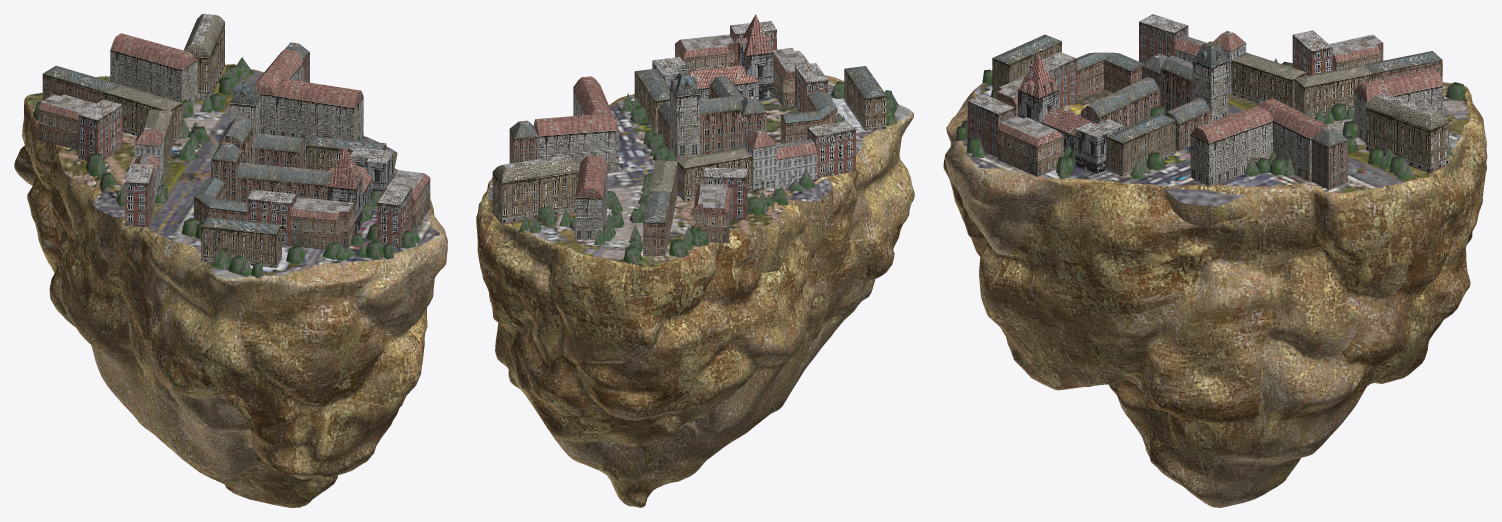
Rendered from sm0680_floatingisland01_01.fbx.
3 views of the same model, side by side, from view 1: azimuth 30°, elevation 25°; view 2: azimuth 150°, elevation 25°; view 3: azimuth 270°, elevation 25° (orthographic). The views are drawn at different scales.
Visible parts, largest first — view 1: LOD_1_Group_0_Sub_3__sm0703_land_A_Mat, LOD_1_Group_0_Sub_4__sm0680_floatingisland_B_Mat, LOD_1_Group_0_Sub_1__sm0680_floatingisland_A_Mat, LOD_1_Group_0_Sub_2__sm0680_floatingisland_C_Mat; view 2: LOD_1_Group_0_Sub_3__sm0703_land_A_Mat, LOD_1_Group_0_Sub_4__sm0680_floatingisland_B_Mat, LOD_1_Group_0_Sub_1__sm0680_floatingisland_A_Mat, LOD_1_Group_0_Sub_2__sm0680_floatingisland_C_Mat; view 3: LOD_1_Group_0_Sub_3__sm0703_land_A_Mat, LOD_1_Group_0_Sub_4__sm0680_floatingisland_B_Mat, LOD_1_Group_0_Sub_1__sm0680_floatingisland_A_Mat, LOD_1_Group_0_Sub_2__sm0680_floatingisland_C_Mat.
Part boxes in pixels (bbox=[...]): LOD_1_Group_0_Sub_3__sm0703_land_A_Mat: bbox=[14, 64, 447, 507]; LOD_1_Group_0_Sub_4__sm0680_floatingisland_B_Mat: bbox=[39, 14, 430, 267]; LOD_1_Group_0_Sub_1__sm0680_floatingisland_A_Mat: bbox=[33, 14, 430, 278]; LOD_1_Group_0_Sub_2__sm0680_floatingisland_C_Mat: bbox=[27, 64, 440, 278]; LOD_1_Group_0_Sub_3__sm0703_land_A_Mat: bbox=[476, 75, 914, 507]; LOD_1_Group_0_Sub_4__sm0680_floatingisland_B_Mat: bbox=[492, 14, 886, 256]; LOD_1_Group_0_Sub_1__sm0680_floatingisland_A_Mat: bbox=[503, 21, 898, 263]; LOD_1_Group_0_Sub_2__sm0680_floatingisland_C_Mat: bbox=[486, 80, 911, 267]; LOD_1_Group_0_Sub_3__sm0703_land_A_Mat: bbox=[943, 83, 1487, 507]; LOD_1_Group_0_Sub_4__sm0680_floatingisland_B_Mat: bbox=[967, 22, 1448, 186]; LOD_1_Group_0_Sub_1__sm0680_floatingisland_A_Mat: bbox=[955, 14, 1465, 189]; LOD_1_Group_0_Sub_2__sm0680_floatingisland_C_Mat: bbox=[961, 82, 1470, 206].
Size of the model in its own units: 14286 by 20651 by 23164.
